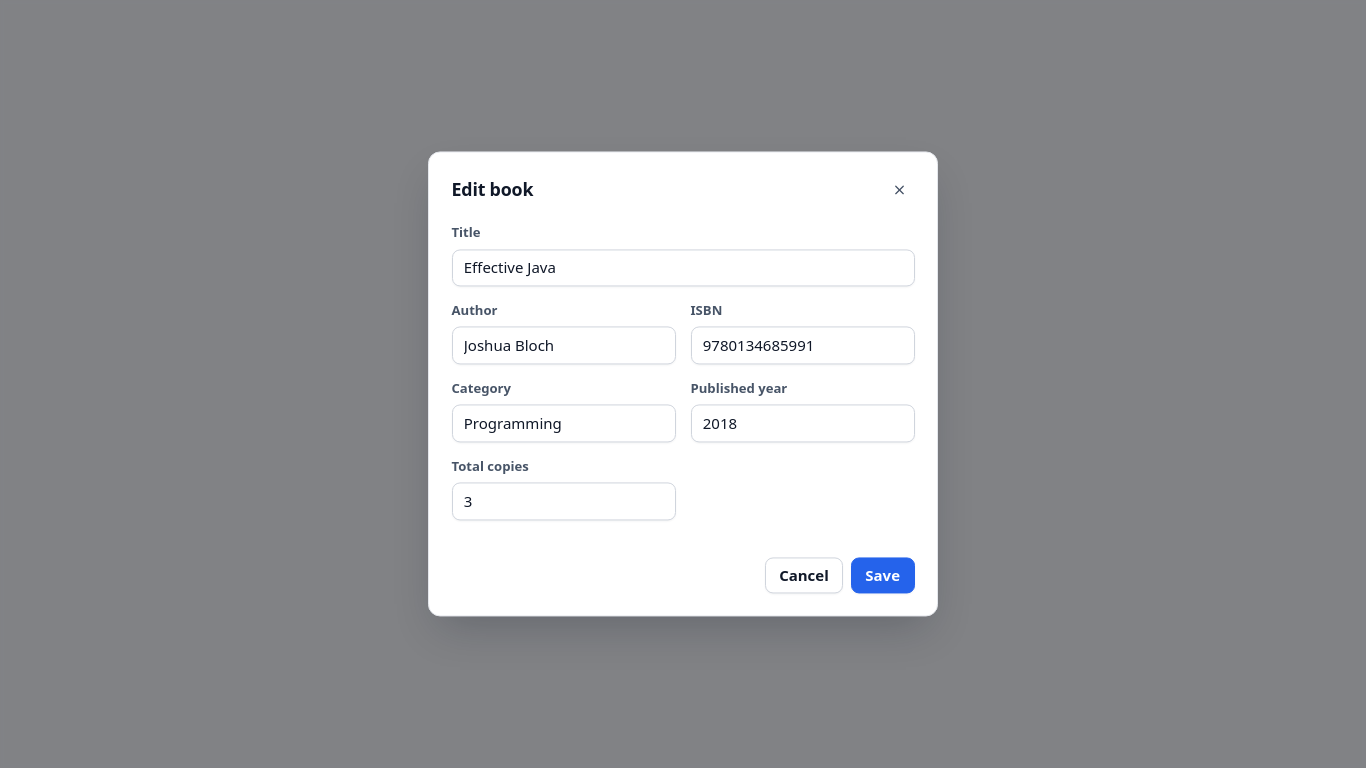
it: BookFormDialog › edits a book, sending the version it was loaded with
Replace the text in the field labelled "Title" with "Effective Java 3" at (683, 268), box [452,249,914,286]
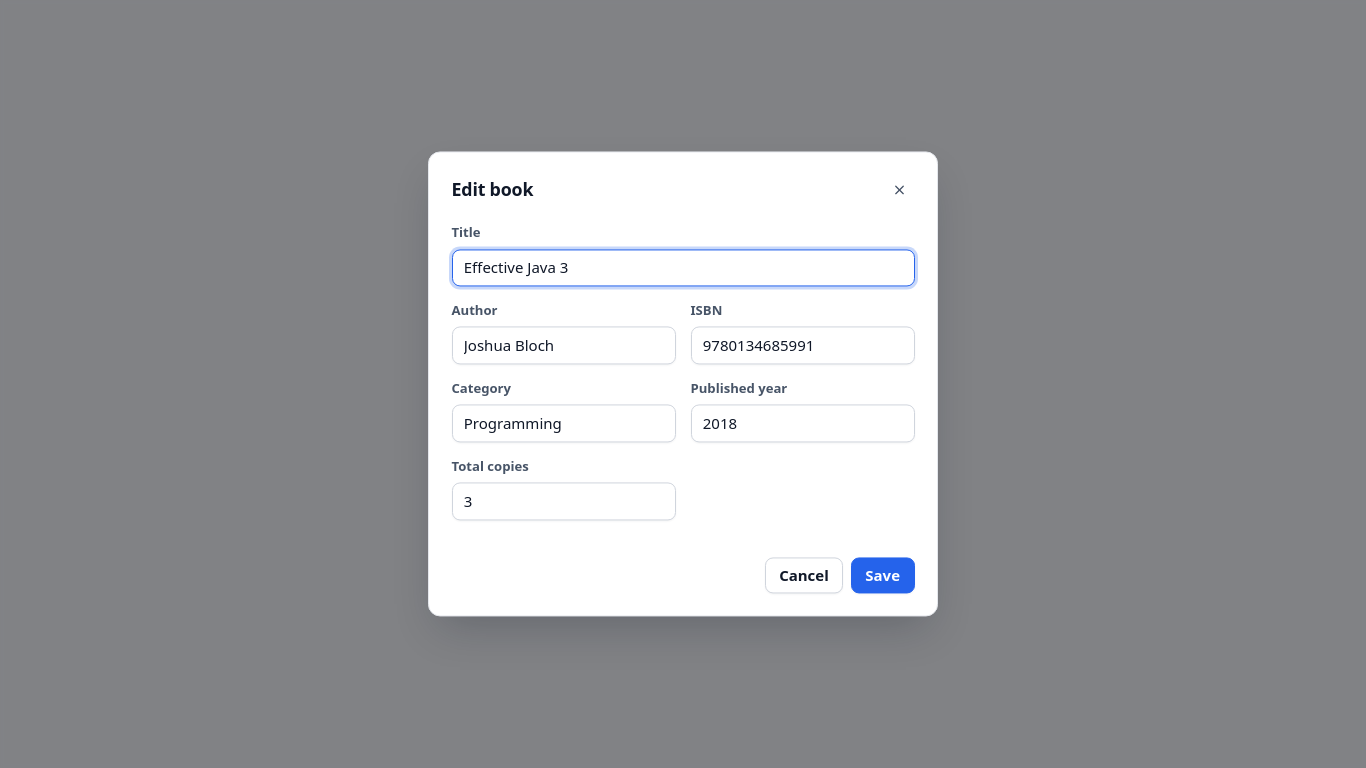
Click the button "Save" at (883, 575), box [851,557,914,593]
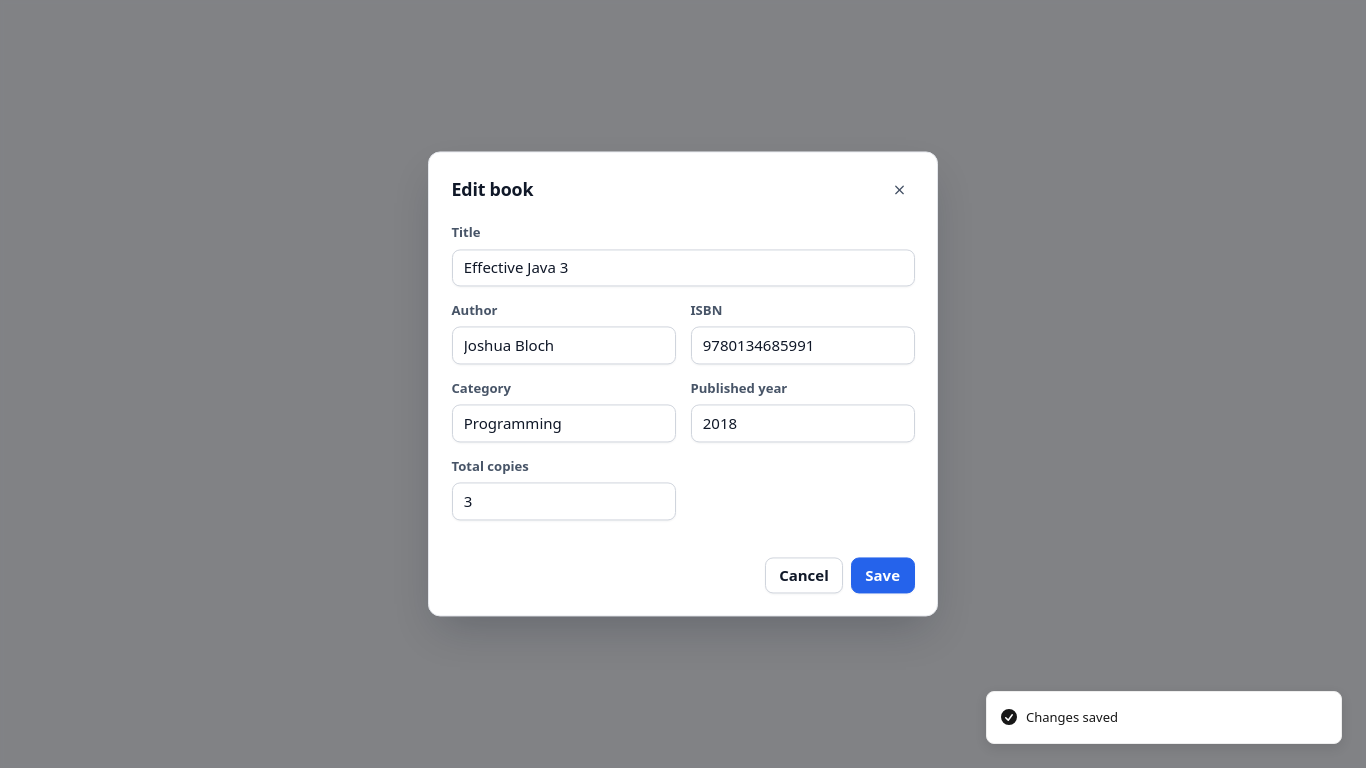
Expected: the text "Changes saved" is shown, [1026,708,1118,727]
